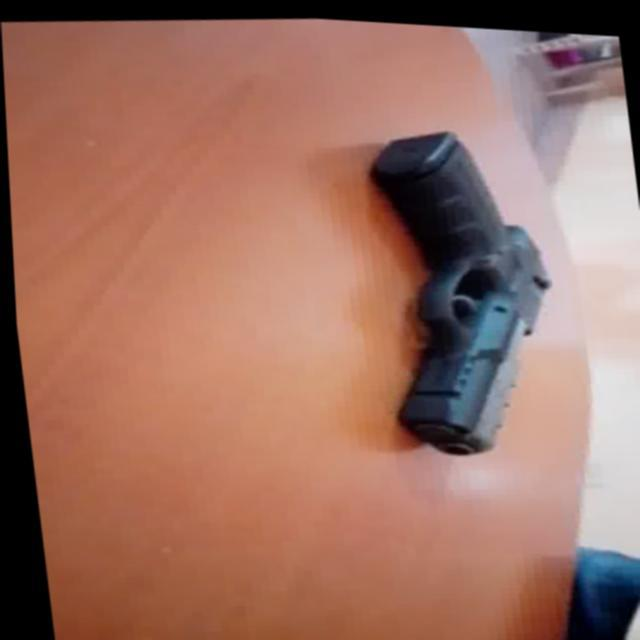weapon: (358, 114, 570, 459)
